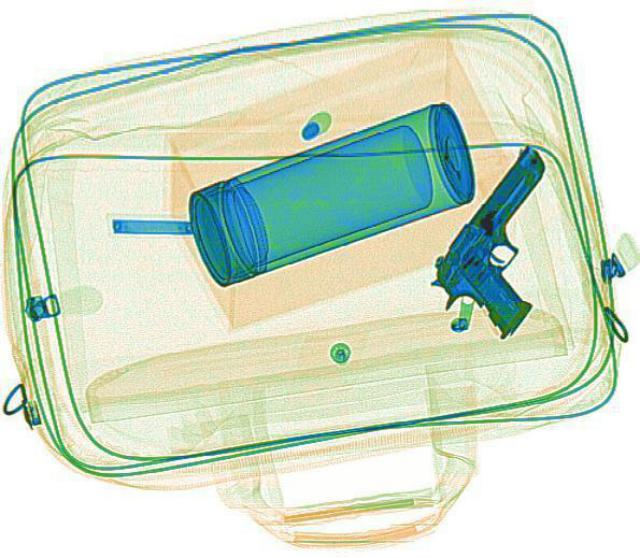Gun: (408, 140, 618, 338)
